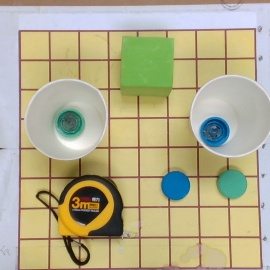blue: (161, 170, 190, 201)
cup_blue: (186, 75, 270, 156)
cup_green: (25, 79, 110, 162)
green: (215, 170, 249, 200)
